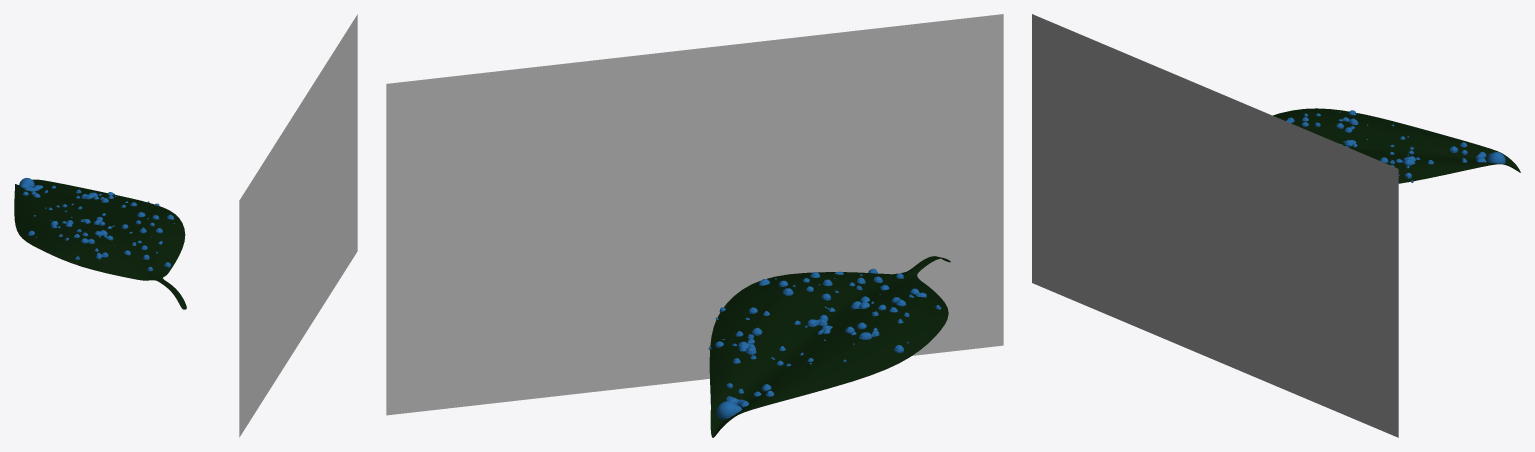
3 renders of one model, left to right at view 1: azimuth 30°, elevation 25°; view 2: azimuth 150°, elevation 25°; view 3: azimuth 270°, elevation 25°, orthographic. The views are drawn at different scales.
Parts seen in each view (by area): view 1: Plane.001_Plane.004, Plane, Dew_Drop.151_Mesh; view 2: Plane.001_Plane.004, Plane, Dew_Drop.151_Mesh; view 3: Plane.001_Plane.004, Plane, Dew_Drop.151_Mesh.
Boxes of the visible parts, x1=… form: Plane.001_Plane.004: x1=239, y1=14, x2=357, y2=437; Plane: x1=14, y1=179, x2=186, y2=309; Dew_Drop.151_Mesh: x1=19, y1=178, x2=174, y2=271; Plane.001_Plane.004: x1=386, y1=14, x2=1003, y2=415; Plane: x1=709, y1=256, x2=950, y2=437; Dew_Drop.151_Mesh: x1=708, y1=268, x2=941, y2=419; Plane.001_Plane.004: x1=1032, y1=14, x2=1398, y2=437; Plane: x1=1273, y1=108, x2=1520, y2=183; Dew_Drop.151_Mesh: x1=1286, y1=110, x2=1505, y2=182.
Bounding box in the file's own units: 3.15 × 2 × 3.29.
